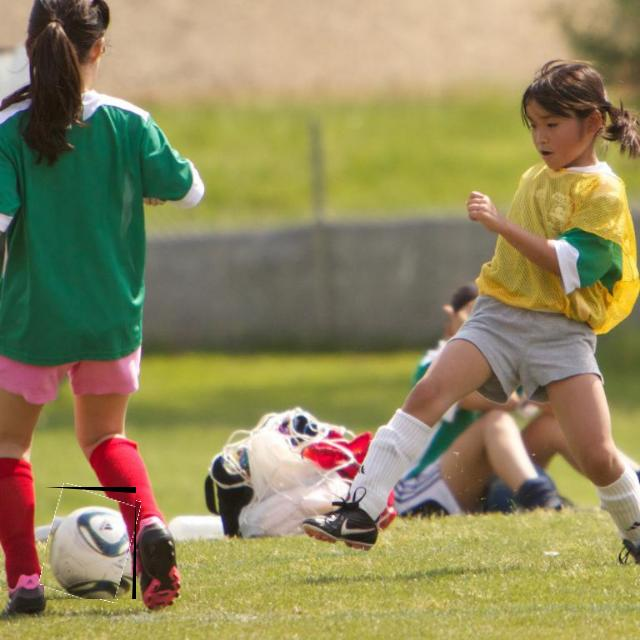Football: (44, 487, 136, 599)
